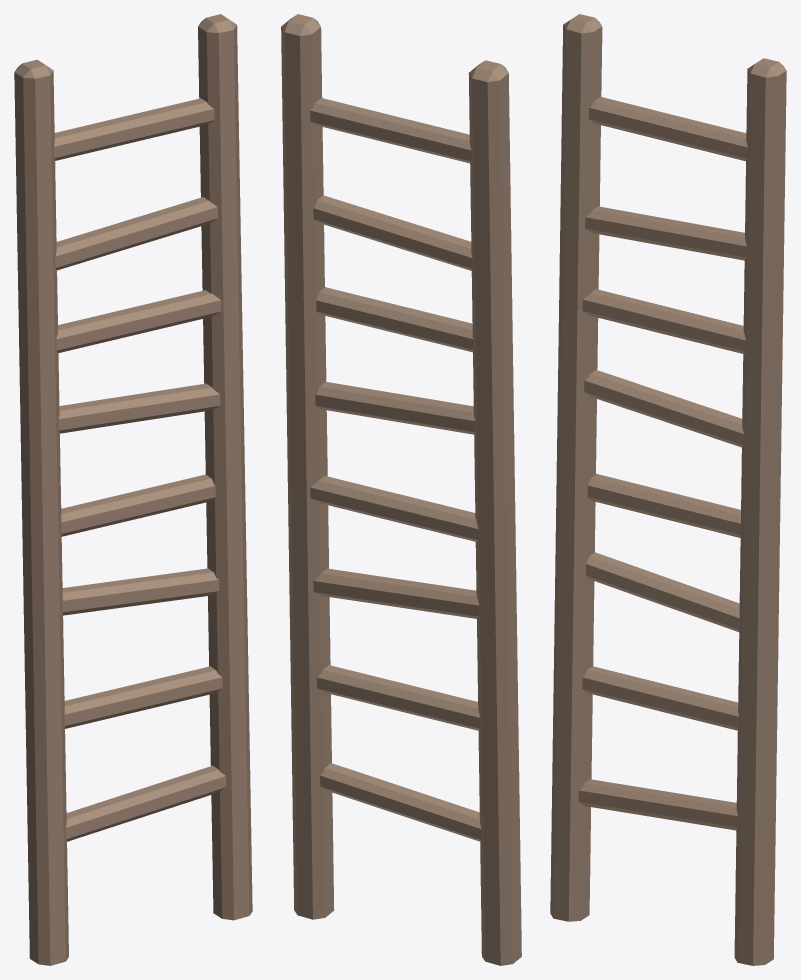
File: ladder.fbx
The picture shows the model from 3 angles, left to right: view 1: azimuth 30°, elevation 25°; view 2: azimuth 150°, elevation 25°; view 3: azimuth 330°, elevation 25°; orthographic projection. The views are drawn at different scales.
Parts seen in each view (by area): view 1: polySurface225; view 2: polySurface225; view 3: polySurface225.
Boxes of the visible parts, x1,y1,x2,y2 form: polySurface225: [14, 14, 252, 965]; polySurface225: [281, 14, 521, 965]; polySurface225: [550, 14, 786, 965].
Size of the model in its own units: 2.2 by 8.64 by 0.5633.
